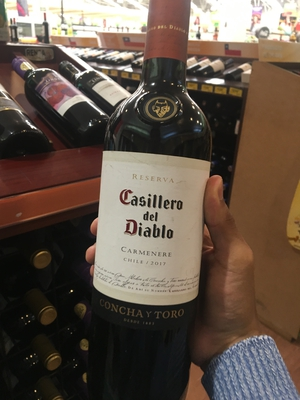casillero del diablo carmenere: (84, 8, 225, 389)
